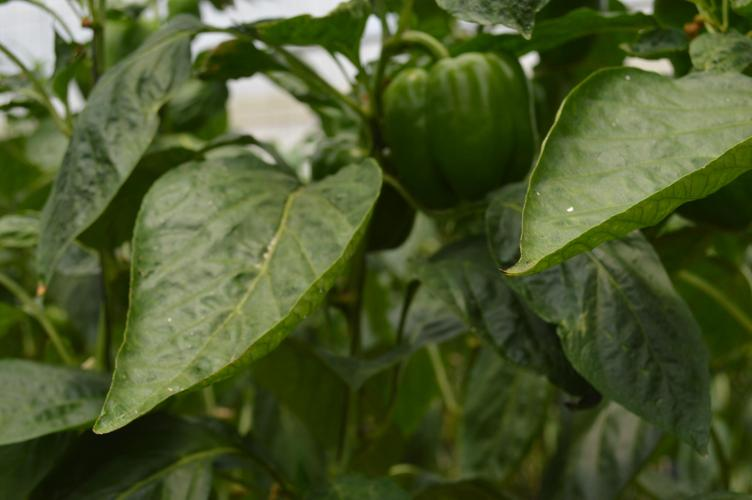BellPepper: (376, 49, 538, 190)
